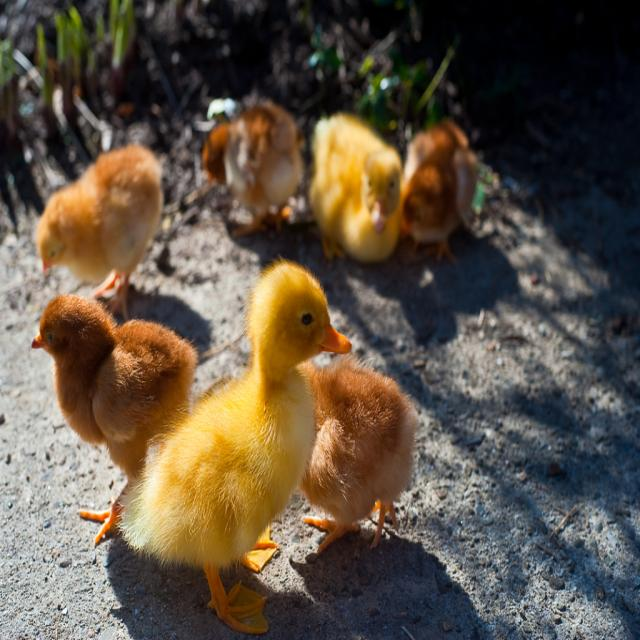Chicken: (119, 261, 348, 635)
